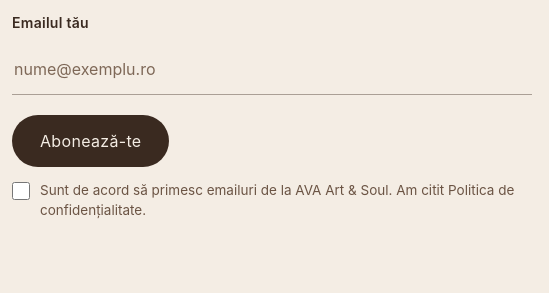
Test: <NewsletterForm> (launch checklist 11, 12, 13) › explains a wrong email under the field and moves focus there
Type "ana@" into the field labelled "Emailul tău" at (272, 69), box [12,43,532,95]
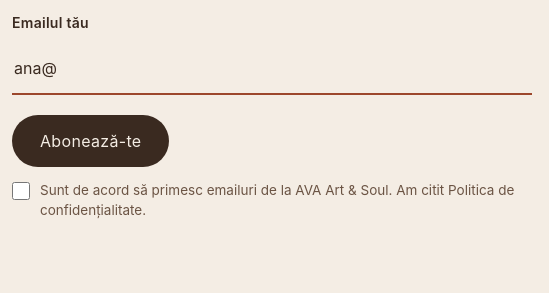
Click the button at (91, 141), box [12,115,170,167]
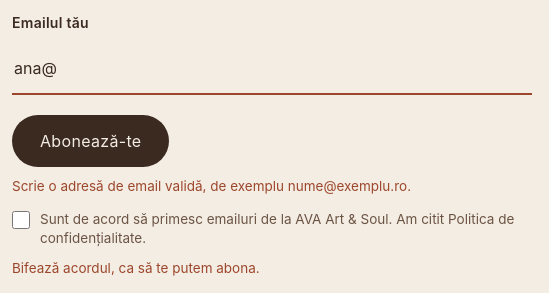
Now the text "Scrie o adresă de email validă, de exemplu nume@exemplu.ro." is shown, box [12,178,411,194]
